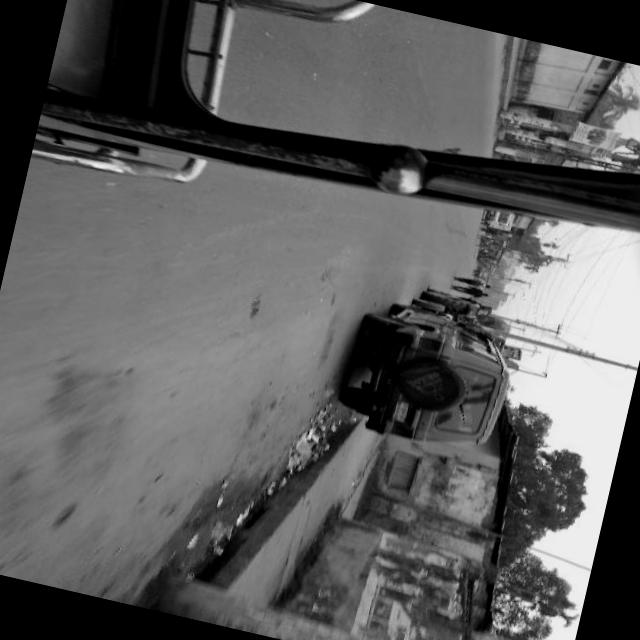car: (332, 293, 524, 460)
motorcycle: (475, 233, 500, 253), (474, 250, 496, 264), (470, 267, 490, 281)
truck: (478, 206, 516, 235)
